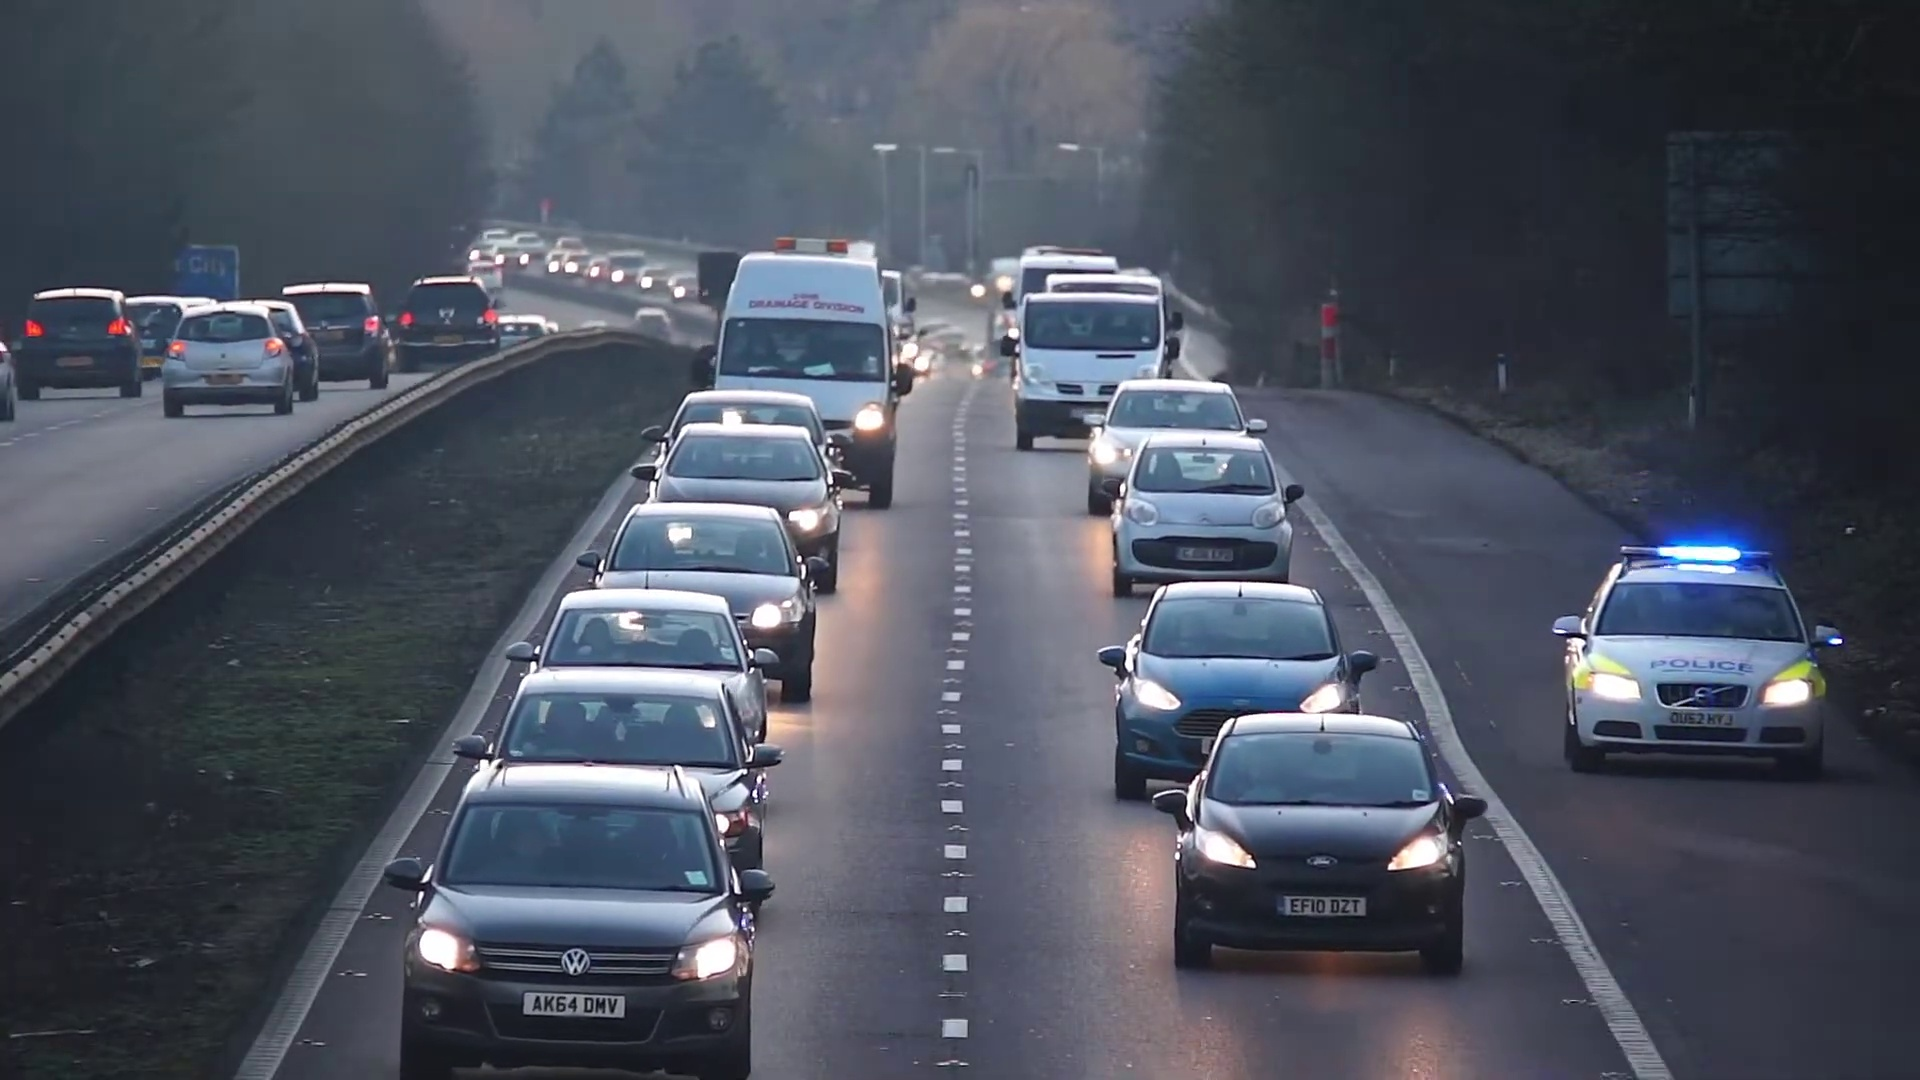license_plate: (522, 988, 628, 1017), (1276, 895, 1372, 925), (1665, 705, 1739, 733)
